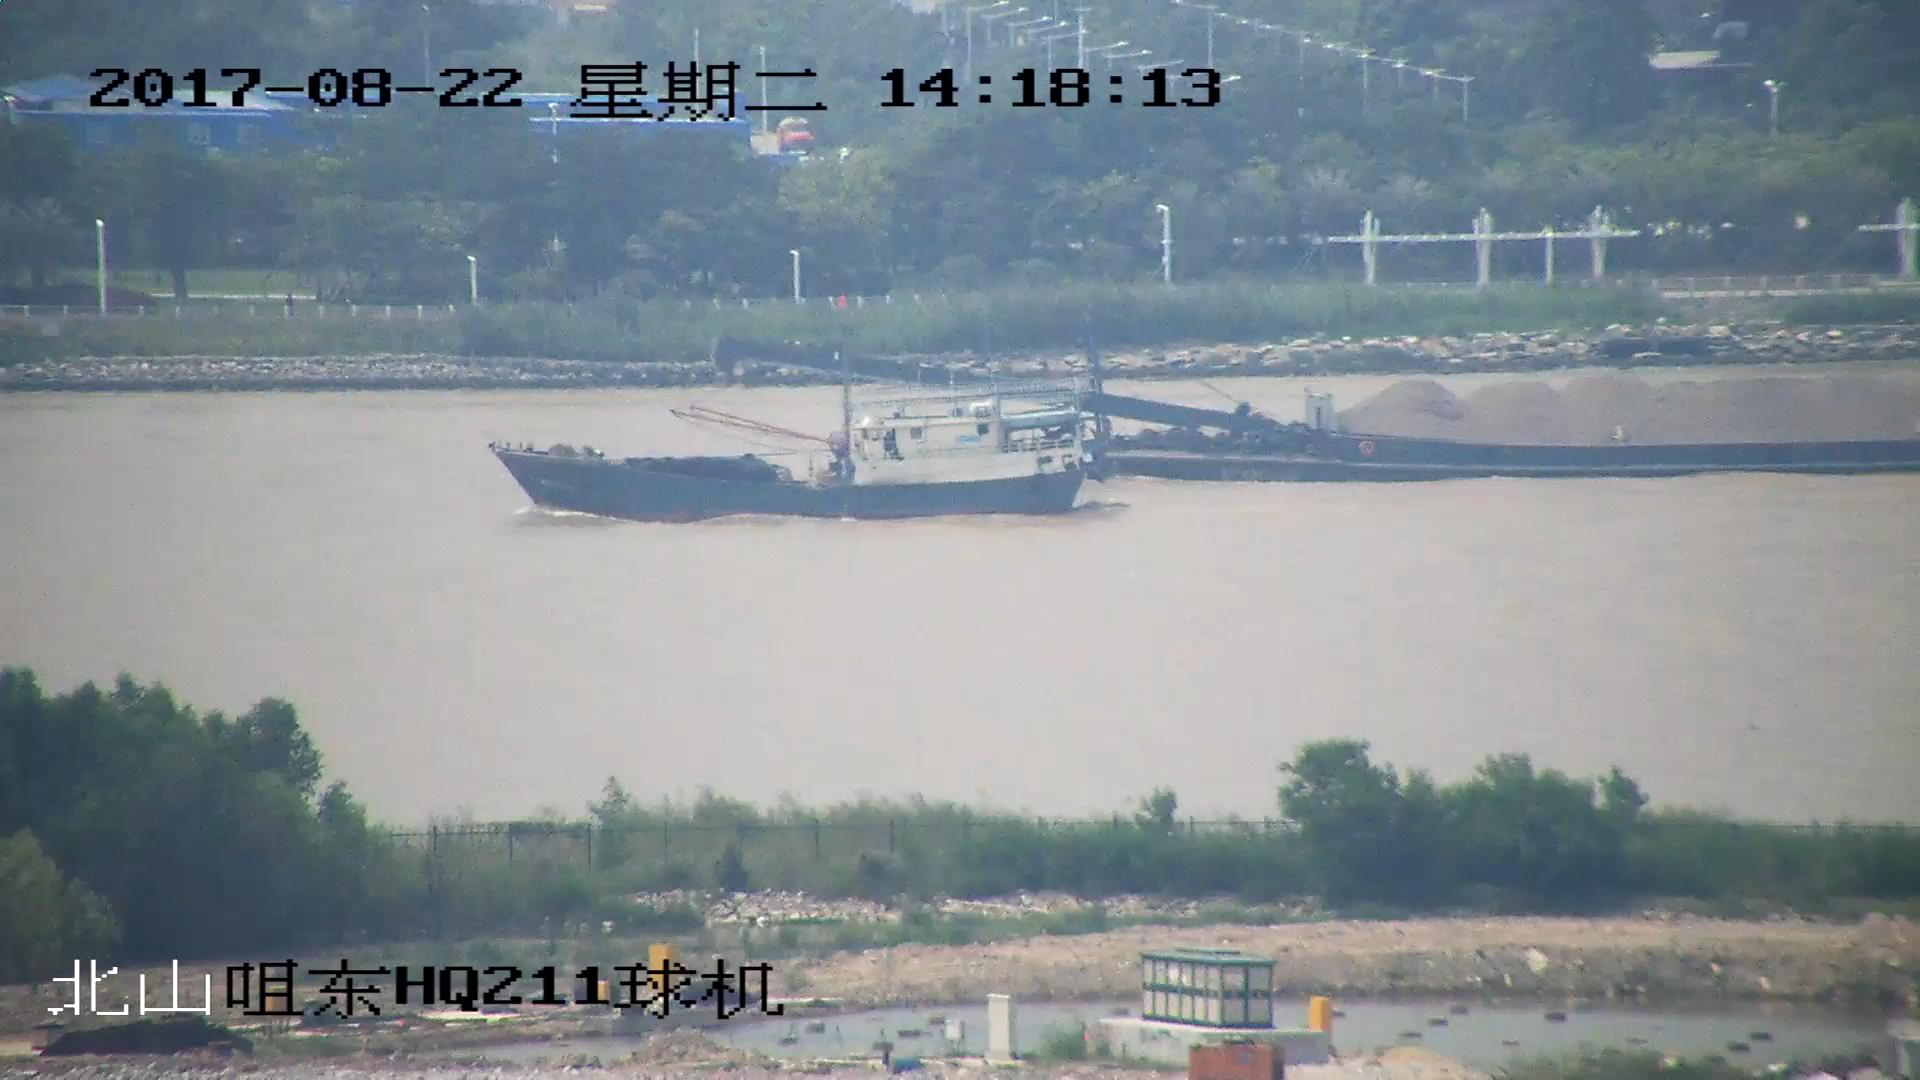fishing boat: (485, 295, 1110, 512)
ore carrier: (714, 335, 1920, 483)
